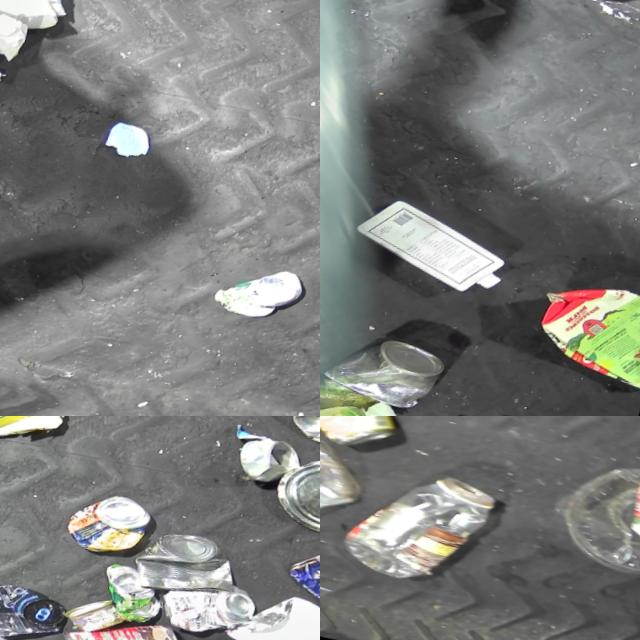can: (322, 325, 461, 416), (131, 525, 259, 619), (64, 488, 164, 570), (158, 574, 271, 640), (97, 563, 181, 634), (0, 568, 81, 640), (265, 454, 320, 559), (235, 437, 315, 501), (58, 605, 201, 640), (320, 416, 422, 463), (67, 592, 138, 640), (281, 552, 320, 628), (283, 416, 320, 467)
non_white_jug: (527, 275, 640, 406)
